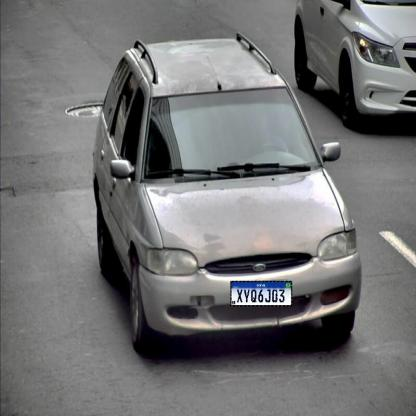PlacaM: (231, 281, 292, 306)
